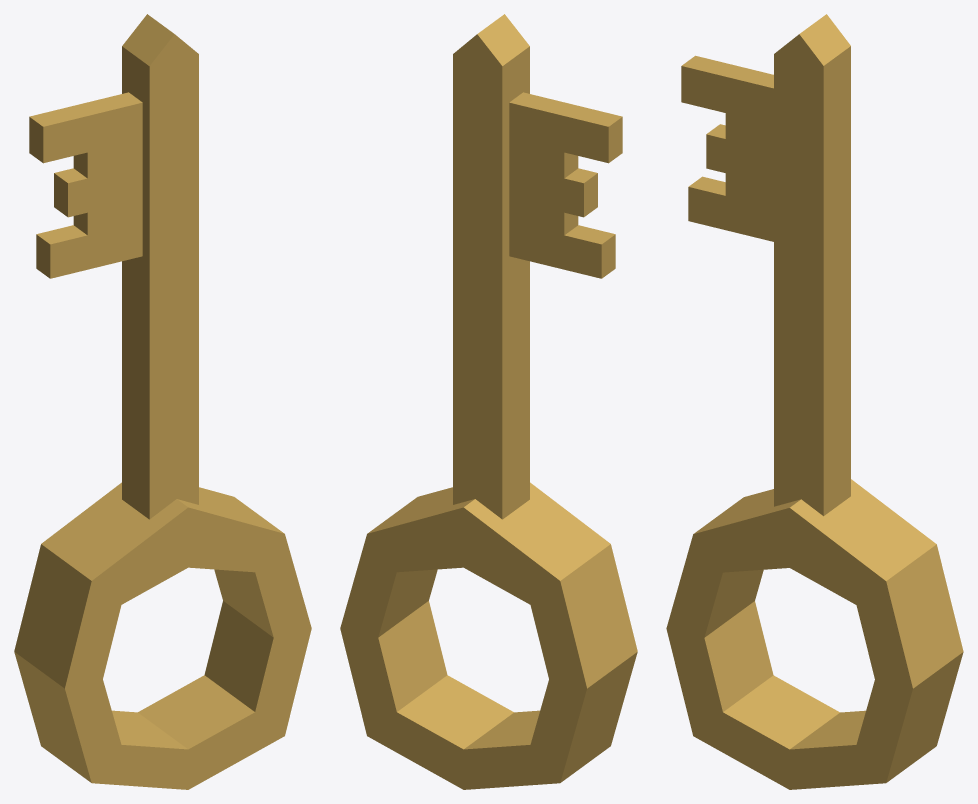
Rendered from tool_key.fbx.
3 views of the same model, side by side, from view 1: azimuth 30°, elevation 25°; view 2: azimuth 150°, elevation 25°; view 3: azimuth 330°, elevation 25° (orthographic).
Visible parts, largest first — view 1: pCube11; view 2: pCube11; view 3: pCube11.
Boxes of the visible parts, left/top/right/bottom form: pCube11: left=14, top=14, right=311, bottom=789; pCube11: left=340, top=14, right=637, bottom=789; pCube11: left=666, top=14, right=963, bottom=789.
Bounding box in the file's own units: 1.37 × 3.92 × 0.4814.
